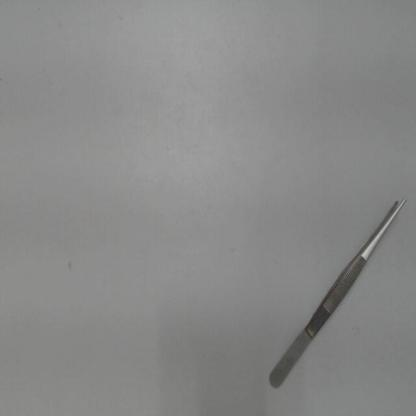Gillies Toothed Dissector: (261, 189, 410, 394)
